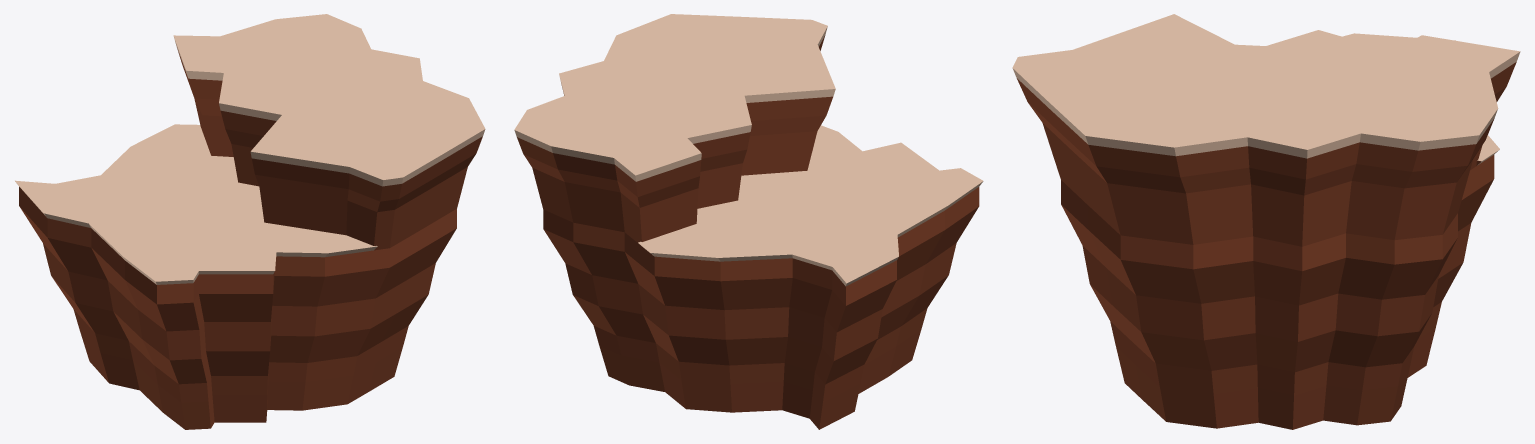
The model's file is Canyon.fbx.
3 renders of one model, left to right at view 1: azimuth 30°, elevation 25°; view 2: azimuth 150°, elevation 25°; view 3: azimuth 270°, elevation 25°, orthographic. The views are drawn at different scales.
Parts seen in each view (by area): view 1: Plane; view 2: Plane; view 3: Plane.
Part boxes in pixels (x1,y1,x2,y2): Plane: [15, 14, 485, 429]; Plane: [514, 14, 983, 429]; Plane: [1012, 14, 1520, 429].
Size of the model in its own units: 2795 by 1921 by 2748.
